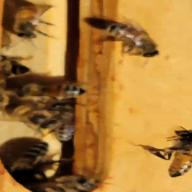Bee: (73, 15, 172, 60), (2, 81, 76, 128), (146, 122, 192, 176)
